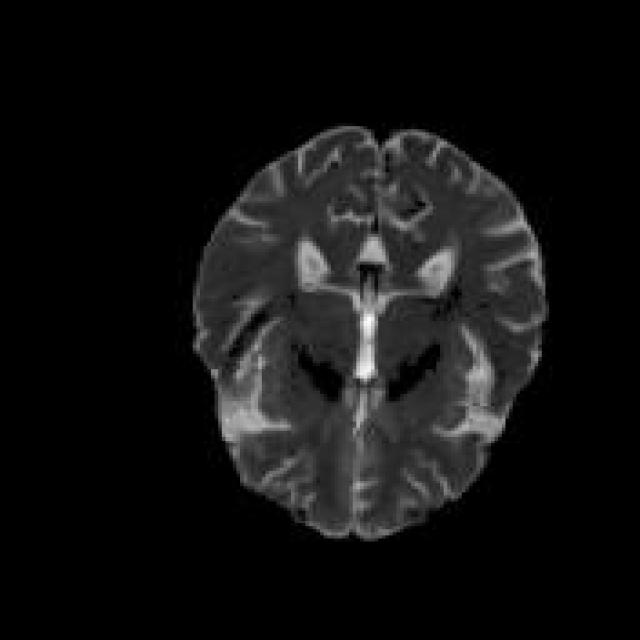parkinson: (189, 120, 549, 542)
